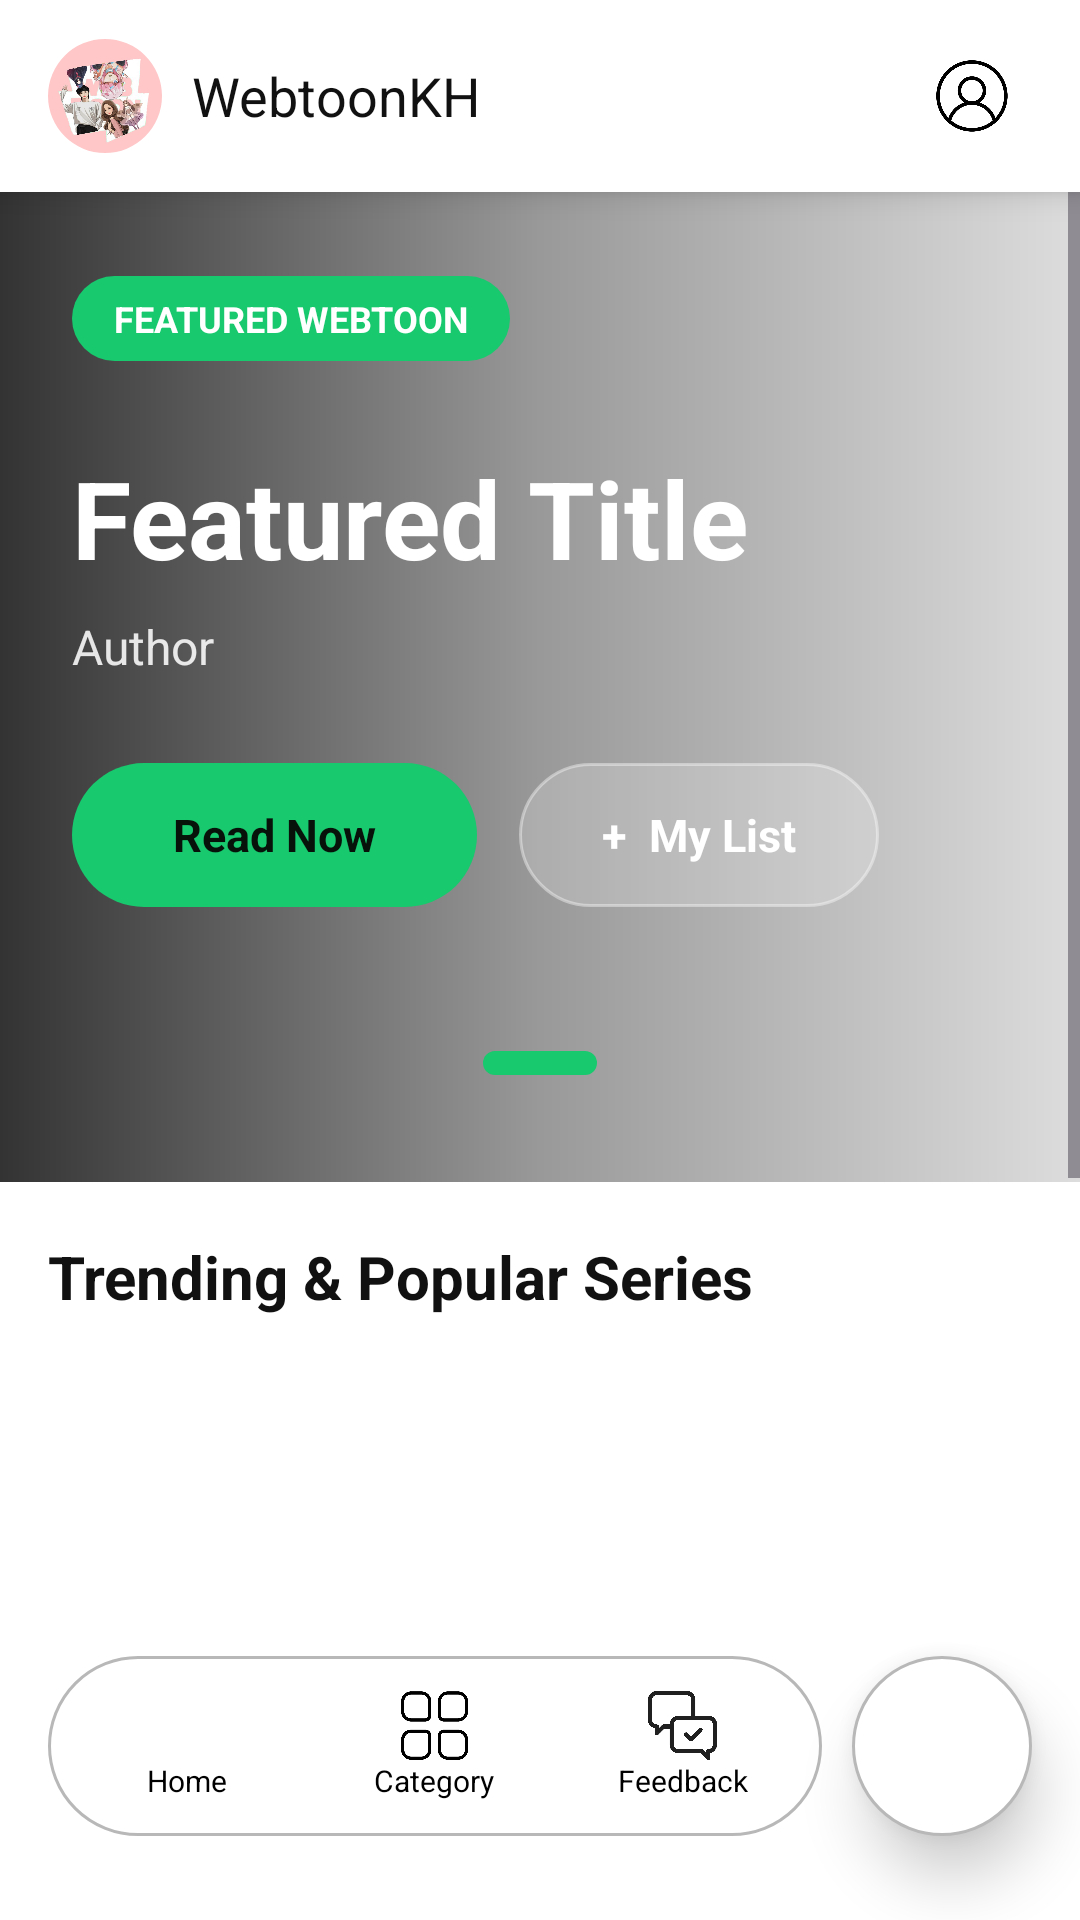

Where icons sit on this 1080px×1920px app screen, as [x1,y1,x2,y2]:
Profile: [936,60,1008,132]
